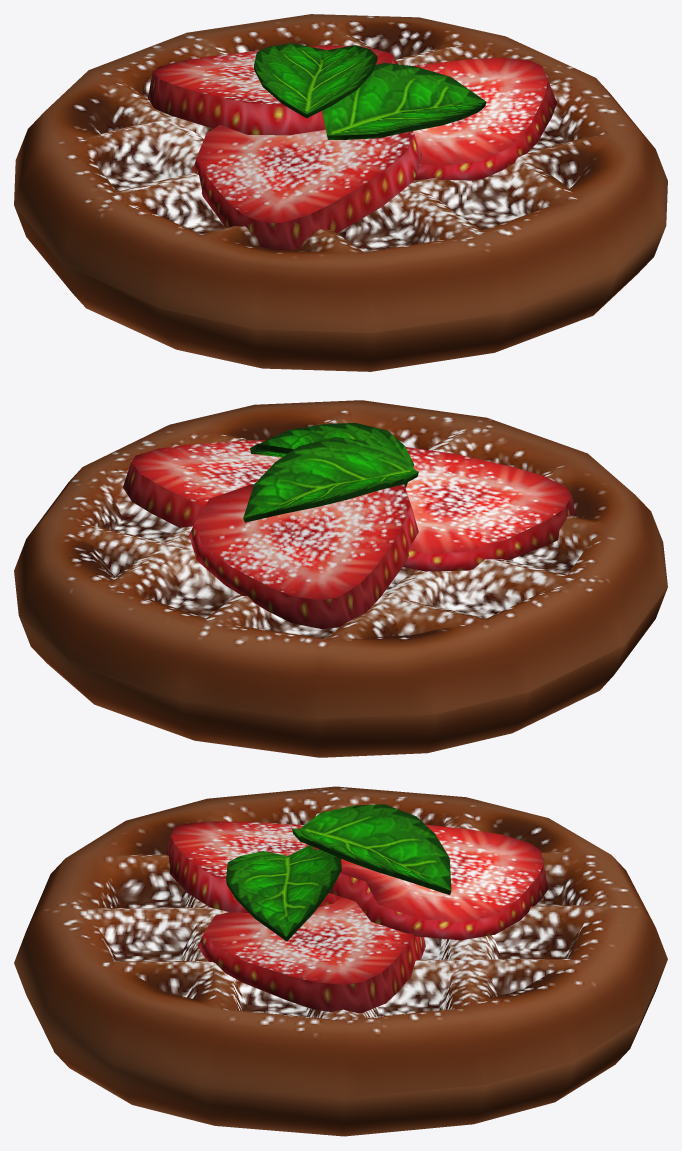
Rendered from 009-Waffles02.FBX.
3 views of the same model, one above another, from view 1: azimuth 30°, elevation 25°; view 2: azimuth 150°, elevation 25°; view 3: azimuth 270°, elevation 25° (orthographic).
Visible parts, largest first — view 1: 009-Waffles02; view 2: 009-Waffles02; view 3: 009-Waffles02.
Boxes of the visible parts, x1=… form: 009-Waffles02: x1=14, y1=14, x2=667, y2=371; 009-Waffles02: x1=14, y1=400, x2=667, y2=757; 009-Waffles02: x1=14, y1=786, x2=667, y2=1136.
Bounding box in the file's own units: 18.5 × 5.73 × 18.75.
